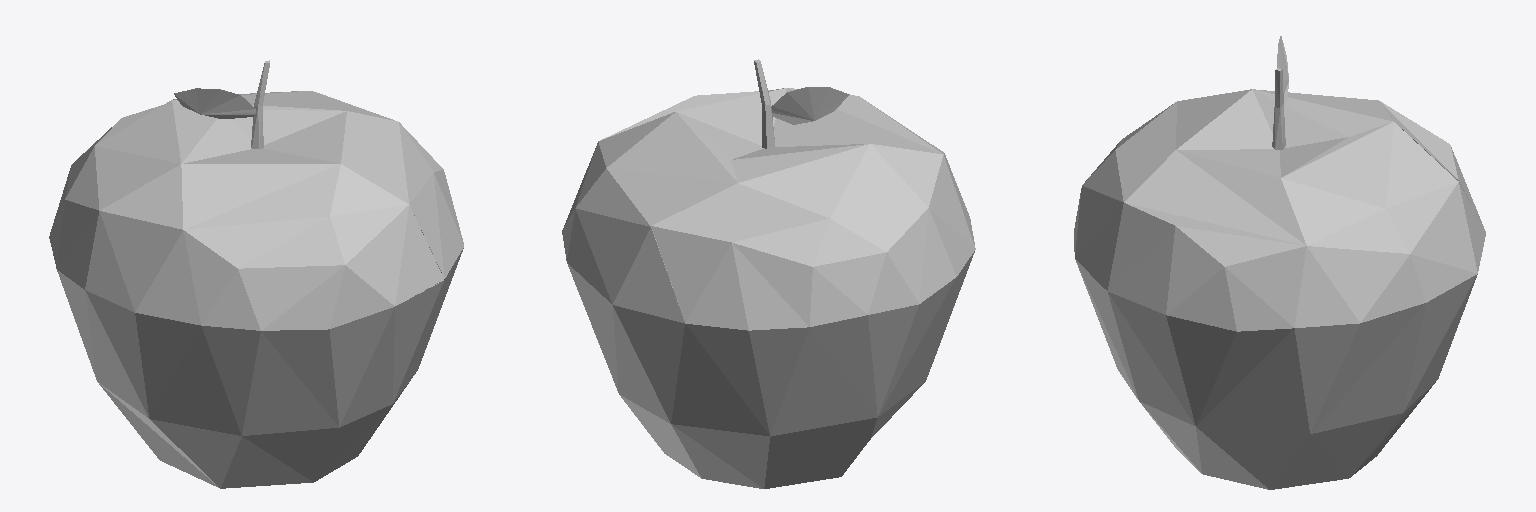
The model's file is apple.obj.
3 renders of one model, left to right at view 1: azimuth 30°, elevation 25°; view 2: azimuth 150°, elevation 25°; view 3: azimuth 270°, elevation 25°, orthographic.
Parts seen in each view (by area): view 1: Blue_Sphere.001, Pink_Sphere, Leaf_Circle, Stem_Cylinder; view 2: Blue_Sphere.001, Pink_Sphere, Leaf_Circle, Stem_Cylinder; view 3: Pink_Sphere, Blue_Sphere.001, Stem_Cylinder.
Boxes of the visible parts, x1,y1,x2,y2 form: Blue_Sphere.001: [49, 99, 443, 488]; Pink_Sphere: [174, 91, 463, 481]; Leaf_Circle: [174, 88, 255, 118]; Stem_Cylinder: [251, 60, 269, 148]; Blue_Sphere.001: [651, 88, 975, 488]; Pink_Sphere: [562, 88, 786, 478]; Leaf_Circle: [771, 87, 849, 124]; Stem_Cylinder: [754, 59, 774, 148]; Pink_Sphere: [1075, 122, 1485, 489]; Blue_Sphere.001: [1074, 89, 1485, 290]; Stem_Cylinder: [1272, 68, 1285, 149].
Size of the model in its own units: 2.12 by 2.16 by 2.11.